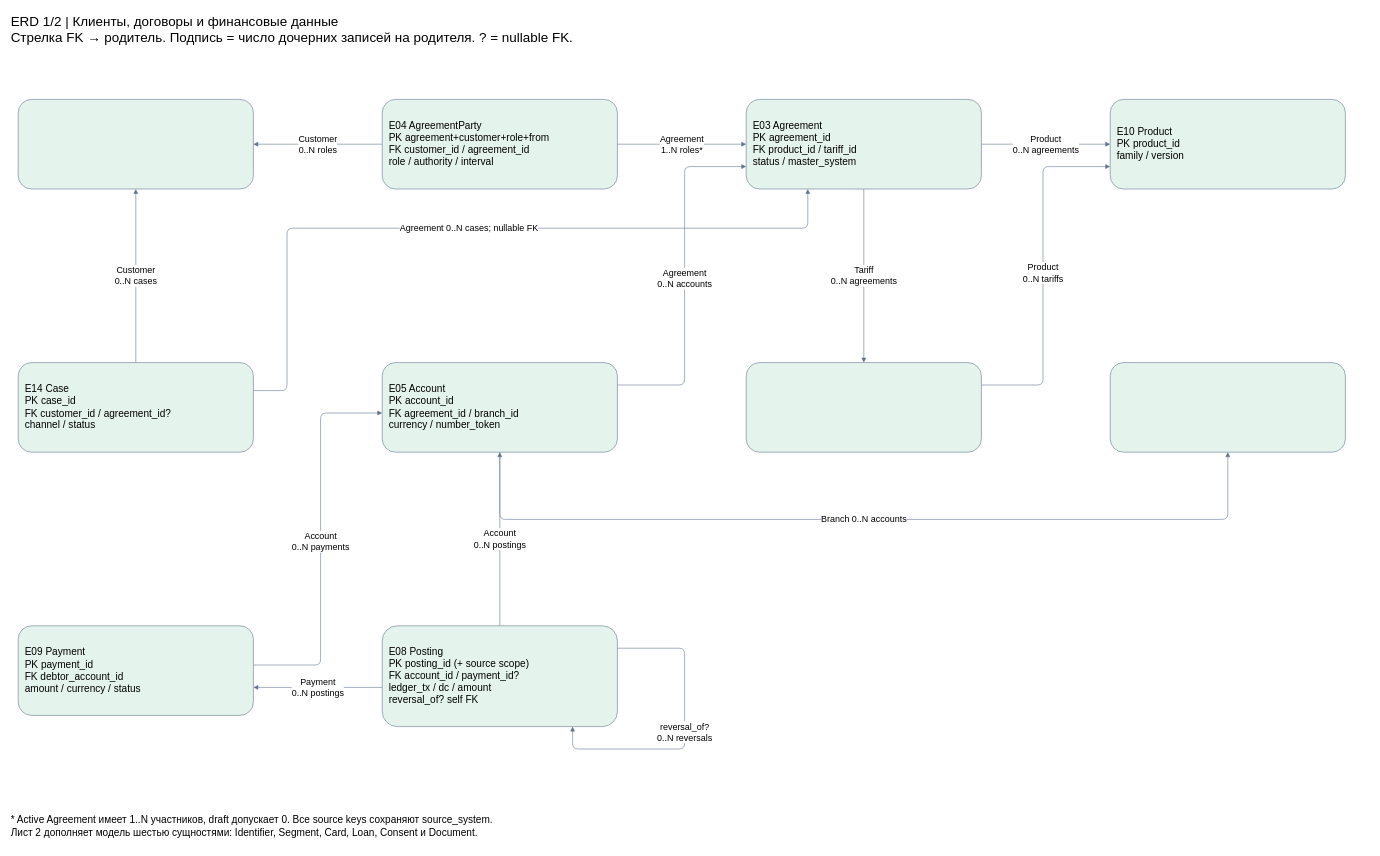
This 1380x856 diagram has some shape labels left out. Each missing label, with the centre of its shape:
"E01 Customer PK customer_id type / verified attributes FK segment_id? (sheet 2)" goes at (x=135, y=144).
"E11 Tariff PK tariff_id FK product_id rules / valid_from,to" goes at (x=863, y=407).
"E12 Branch PK branch_id bank / code / interval" goes at (x=1227, y=407).
